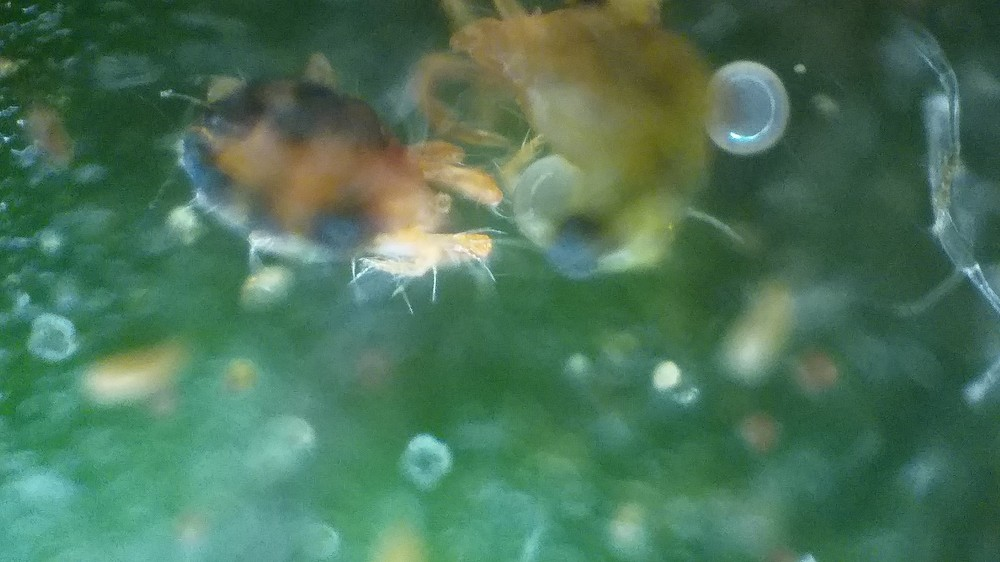Aracnido Rojo: (142, 55, 512, 317), (431, 1, 720, 296)
